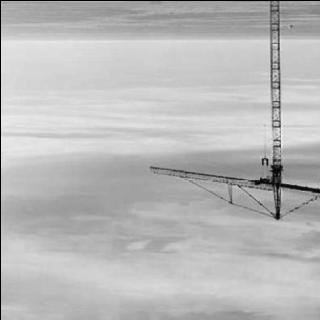Stratus: (0, 43, 255, 320)
